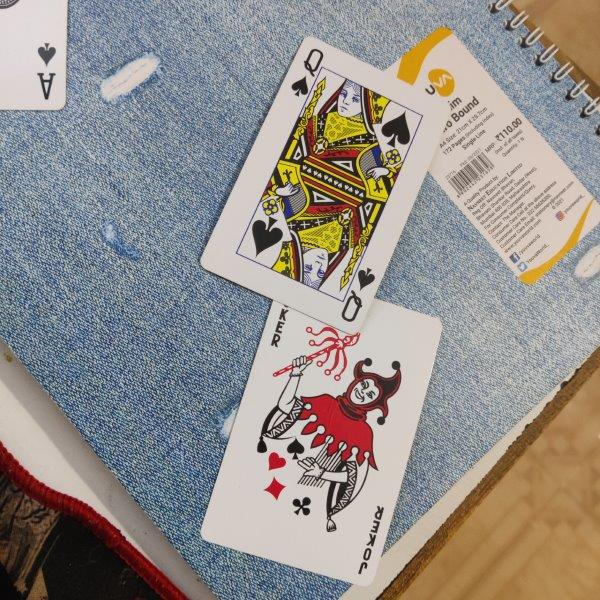Ace of Spades: (1, 1, 67, 111)
Joker: (199, 297, 445, 587)
Queen of Spades: (199, 37, 453, 337)
